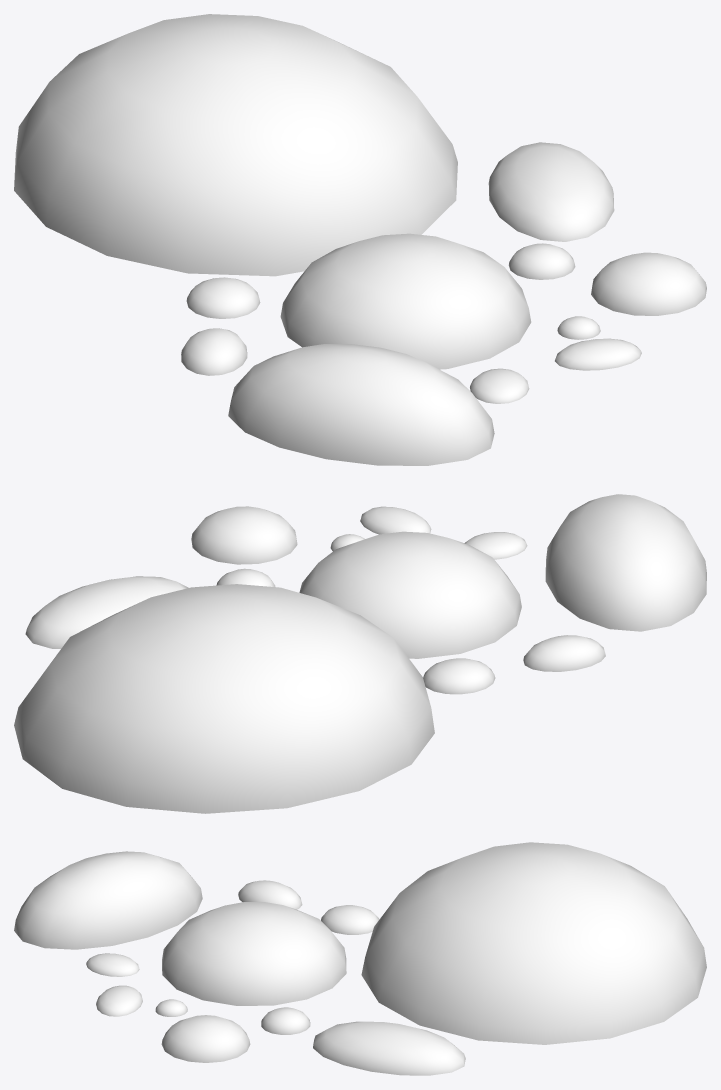
Rendered from Rock_2.fbx.
3 views of the same model, one above another, from view 1: azimuth 30°, elevation 25°; view 2: azimuth 150°, elevation 25°; view 3: azimuth 270°, elevation 25° (orthographic). The views are drawn at different scales.
Visible parts, largest first — view 1: Stone_2; view 2: Stone_2; view 3: Stone_2.
Part boxes in pixels (x1,y1,x2,y2): Stone_2: (14, 14, 706, 465); Stone_2: (14, 494, 706, 813); Stone_2: (14, 842, 706, 1075).
Bounding box in the file's own units: 0.97 × 0.2364 × 1.45.
